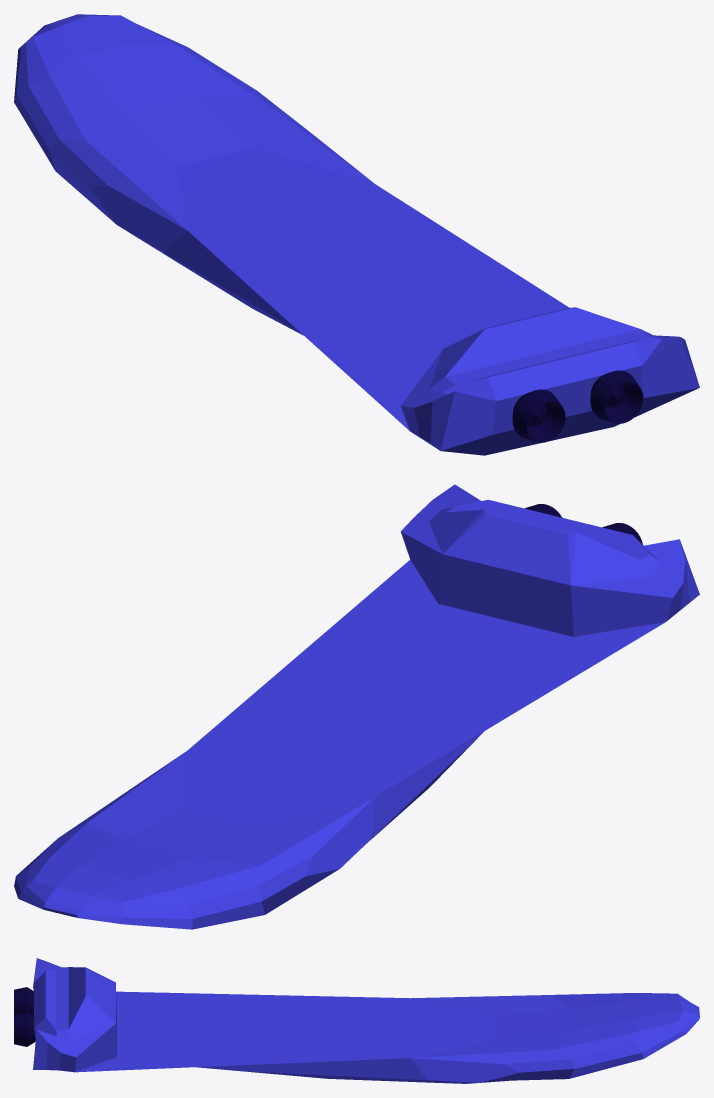
Rendered from hoverBoard.fbx.
The picture shows the model from 3 angles, top to bottom: view 1: azimuth 30°, elevation 25°; view 2: azimuth 150°, elevation 25°; view 3: azimuth 270°, elevation 25°; orthographic projection. The views are drawn at different scales.
Visible parts, largest first — view 1: Body, Jets; view 2: Body; view 3: Body, Jets.
Boxes of the visible parts, box(x1,y1,x2,y2) form: Body: box(14, 14, 699, 455); Jets: box(512, 370, 643, 442); Body: box(14, 484, 699, 929); Body: box(33, 958, 699, 1083); Jets: box(14, 987, 35, 1046).
Size of the model in its own units: 210 by 86.63 by 701.
